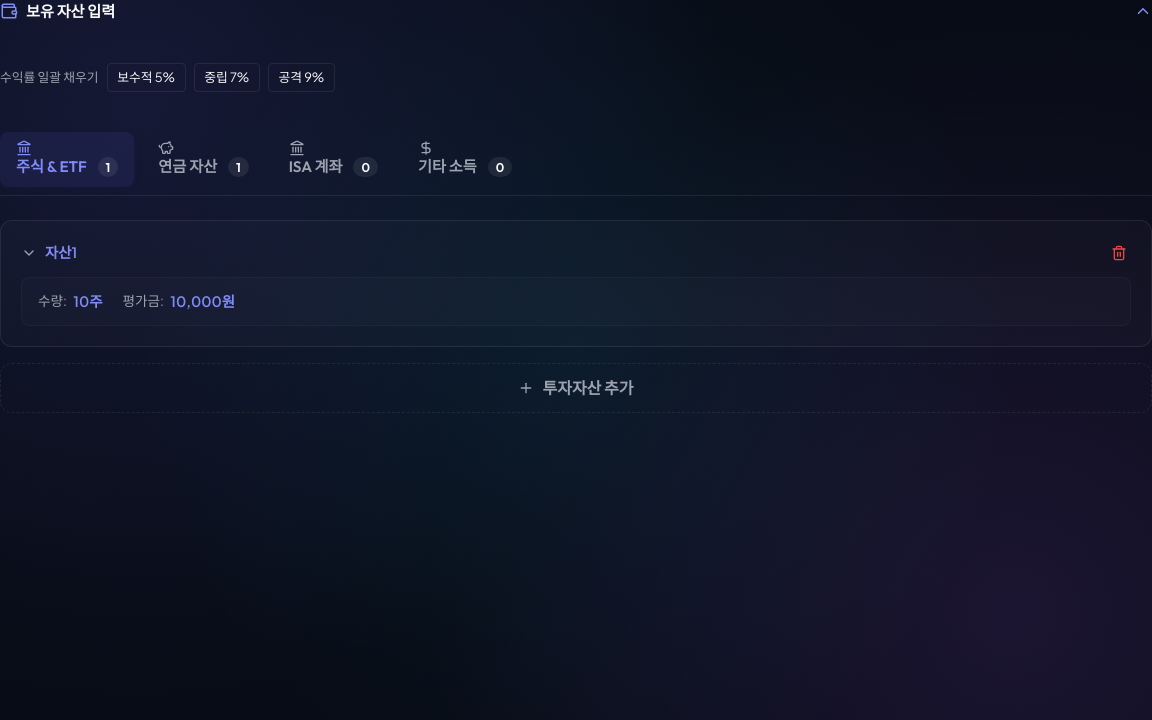
AssetFormSection - 숫자 입력 중간 상태 › 월 적립 투자금을 지우면 화면은 빈 칸으로 남는다
Step 1. Click the text "자산1" → click(61, 253), box [45, 242, 77, 264]
(page scrolled)
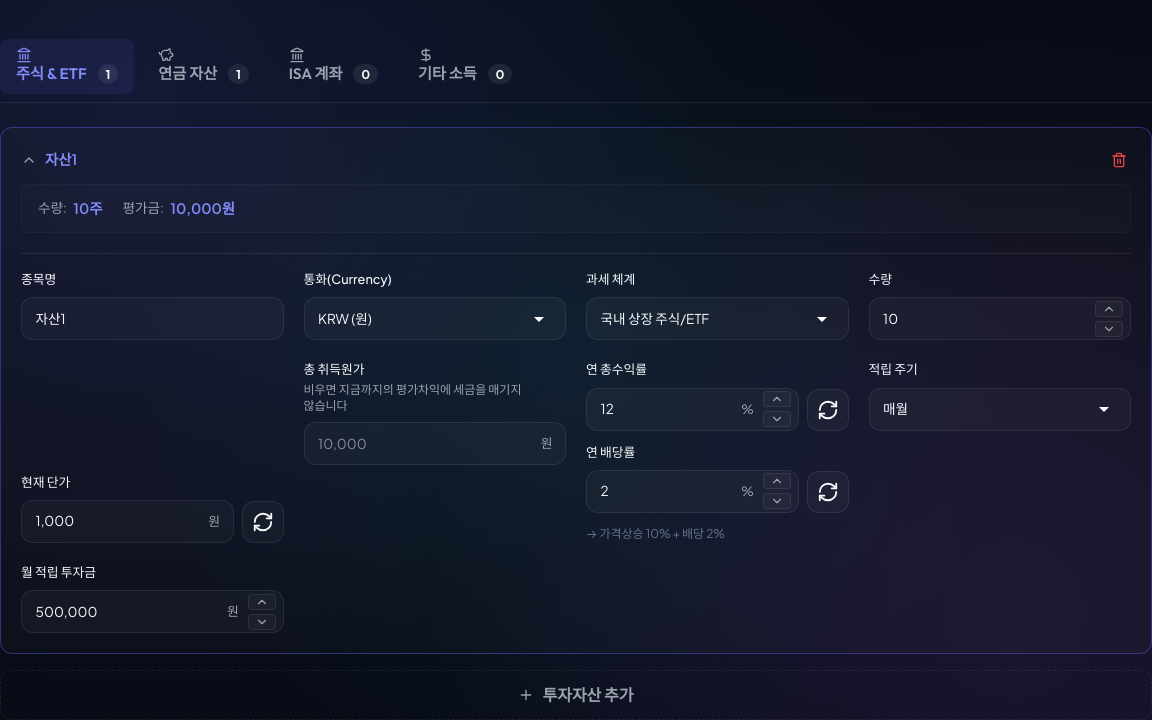
Step 2. Clear the field labelled "월 적립 투자금" → (152, 612), box [21, 590, 284, 634]
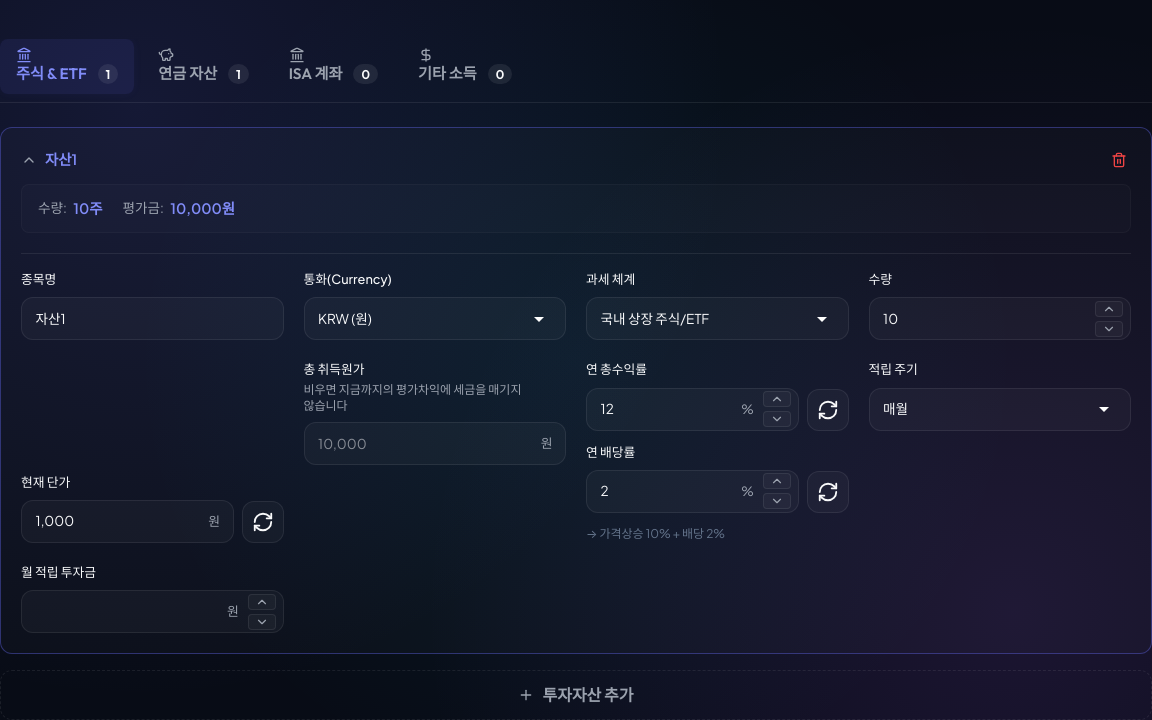
Step 3. Type "300000" into the field labelled "월 적립 투자금" → (152, 612), box [21, 590, 284, 634]
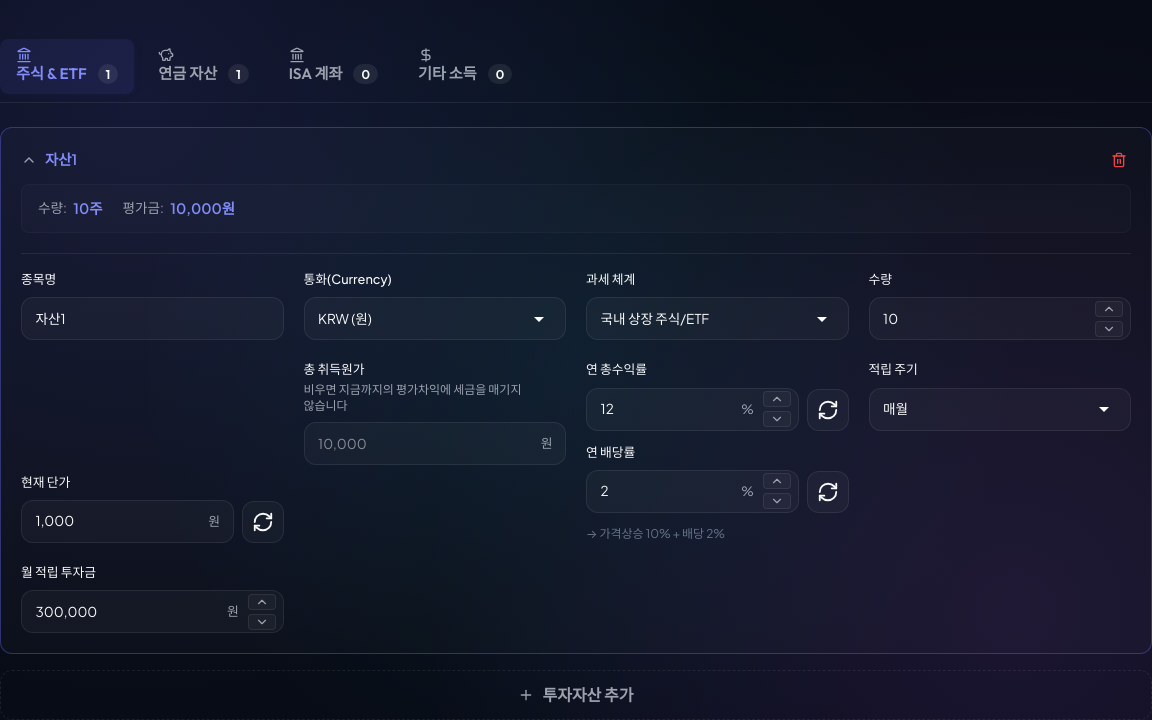
expect the field labelled "월 적립 투자금" holds "300,000": met, box [21, 590, 284, 634]
